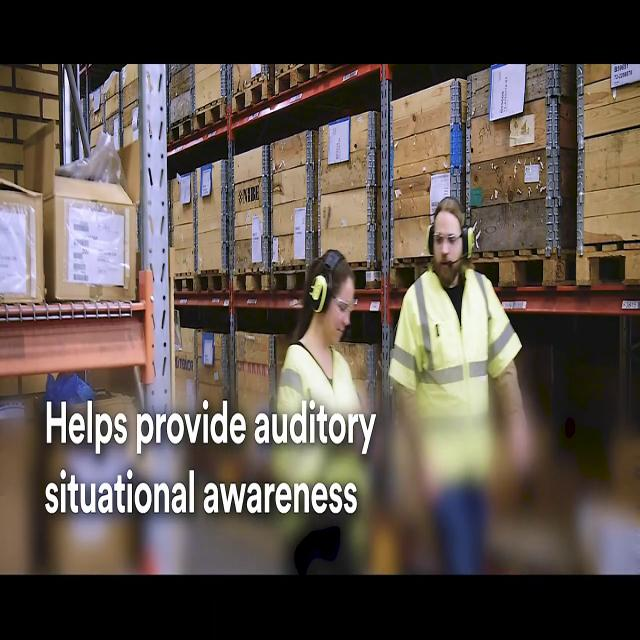earmuff: (309, 274, 327, 314), (463, 223, 475, 261), (425, 222, 436, 258)
glasses: (332, 296, 356, 318), (432, 232, 464, 245)
